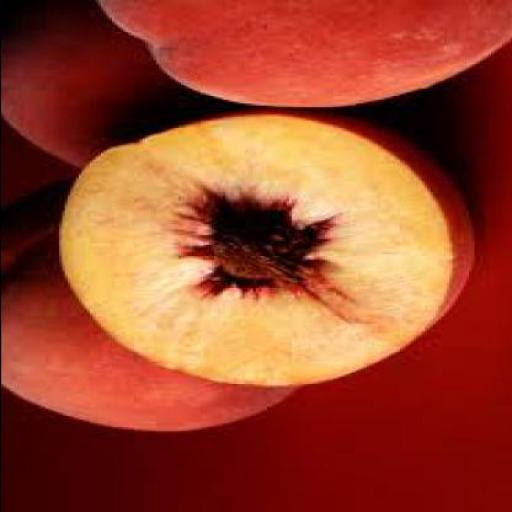biodegradable: (55, 105, 471, 386), (1, 172, 310, 432), (91, 0, 510, 106), (0, 0, 219, 170)
